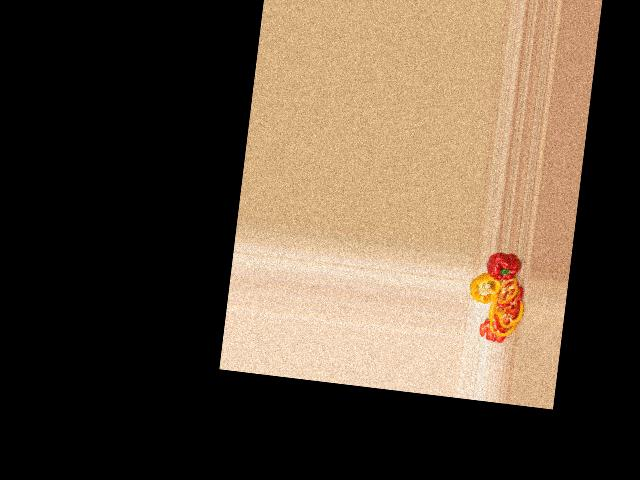bell_pepper: (466, 272, 501, 306)
